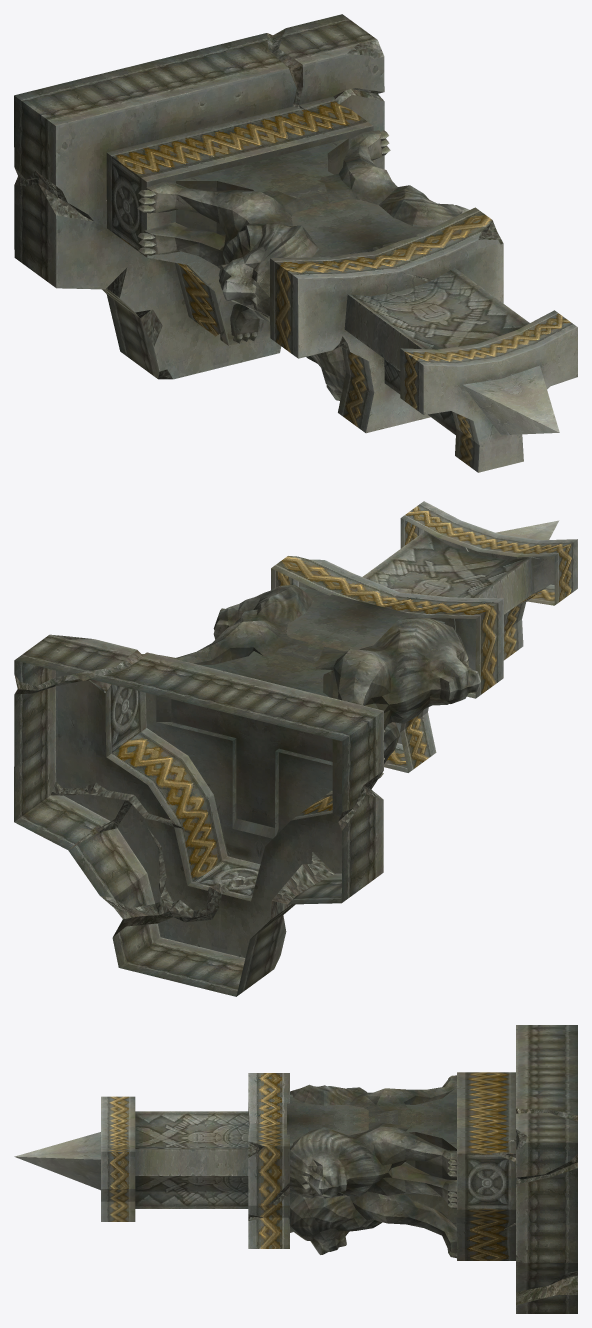
File: jingling_02_diaoxiang_01.obj
3 views of the same model, one above another, from view 1: azimuth 30°, elevation 25°; view 2: azimuth 150°, elevation 25°; view 3: azimuth 270°, elevation 25° (orthographic). The views are drawn at different scales.
Visible parts, largest first — view 1: DrawCall_0245; view 2: DrawCall_0245; view 3: DrawCall_0245.
Boxes of the visible parts, x1,y1,x2,y2 form: DrawCall_0245: (14, 14, 577, 472); DrawCall_0245: (14, 501, 577, 996); DrawCall_0245: (14, 1025, 577, 1313).
Size of the model in its own units: 342 by 281 by 687.
Materials: 6 (6 with a texture image).
